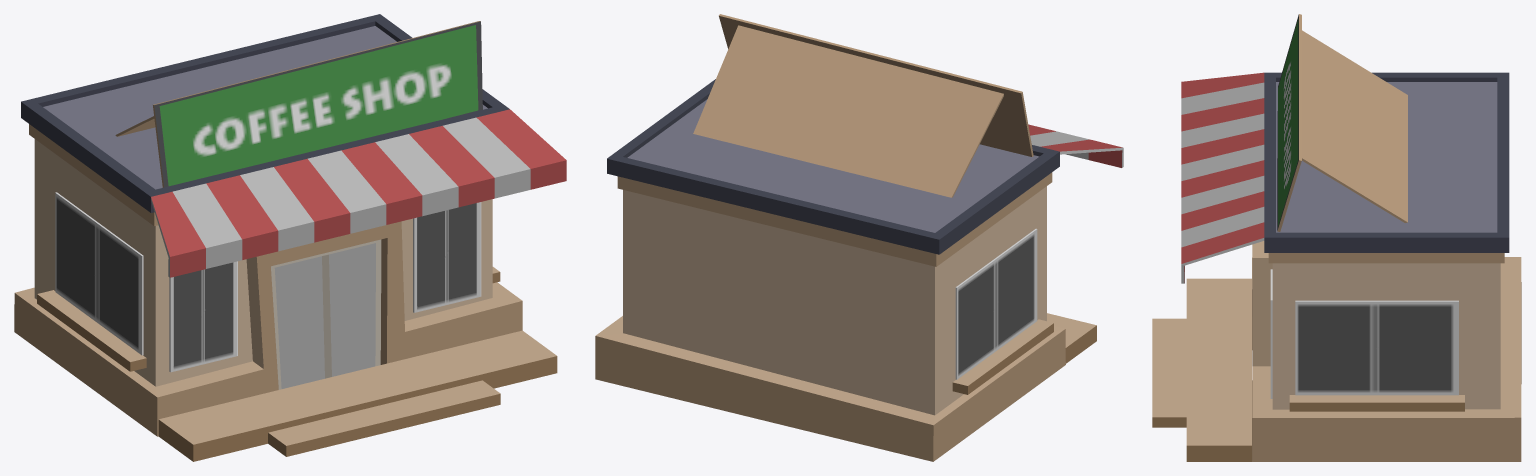
The model's file is coffeeShop01_color01.fbx.
3 renders of one model, left to right at view 1: azimuth 30°, elevation 25°; view 2: azimuth 150°, elevation 25°; view 3: azimuth 270°, elevation 25°, orthographic. The views are drawn at different scales.
Parts seen in each view (by area): view 1: coffeeShop01_color01; view 2: coffeeShop01_color01; view 3: coffeeShop01_color01.
Part boxes in pixels (x1=…): coffeeShop01_color01: x1=14, y1=14, x2=566, y2=461; coffeeShop01_color01: x1=595, y1=14, x2=1123, y2=461; coffeeShop01_color01: x1=1152, y1=14, x2=1521, y2=461.
Size of the model in its own units: 886 by 666 by 758.
